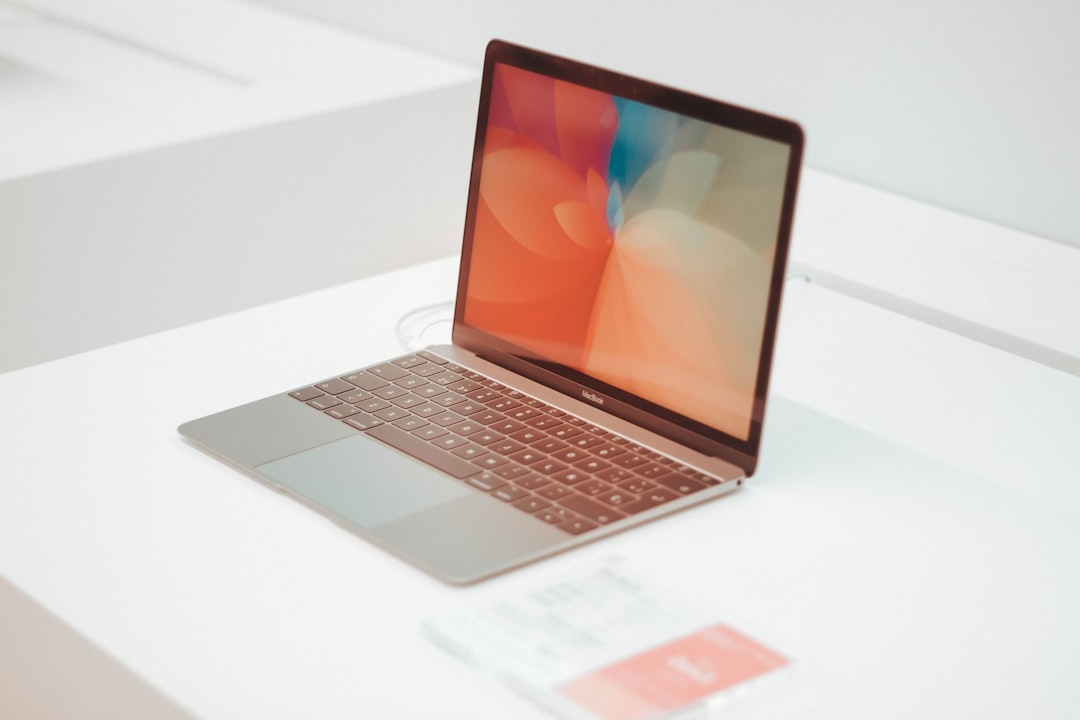laptop: (144, 23, 823, 597)
